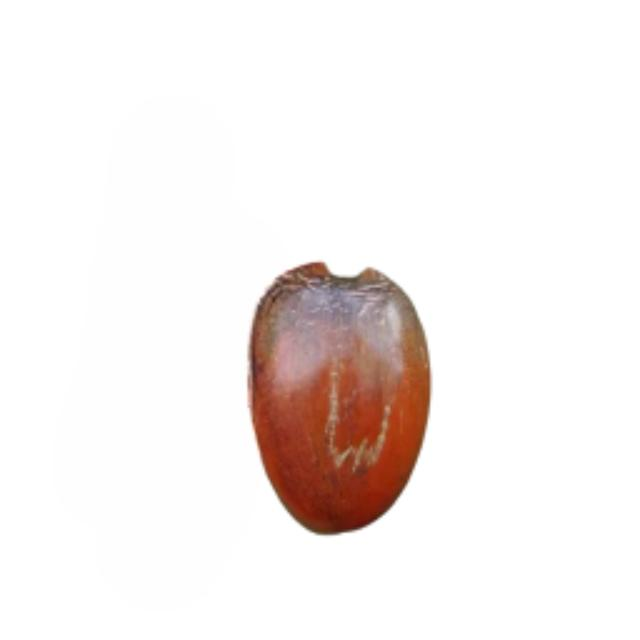defect: (239, 245, 449, 547)
